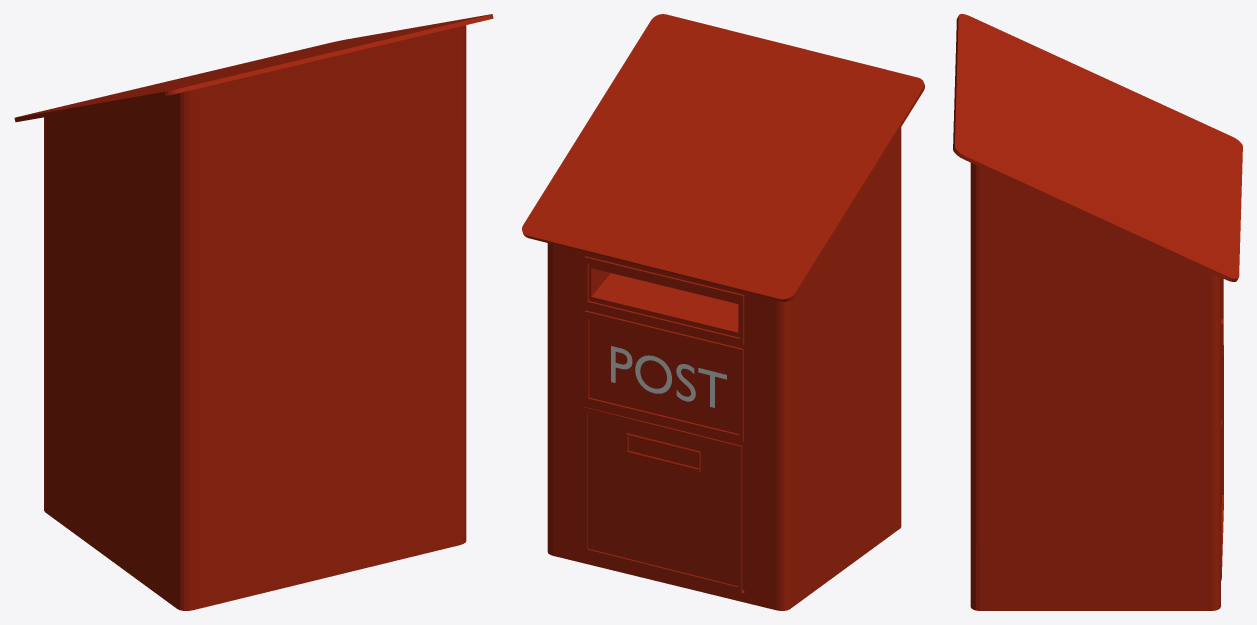
File: Post Box.fbx
The picture shows the model from 3 angles, left to right: view 1: azimuth 30°, elevation 25°; view 2: azimuth 150°, elevation 25°; view 3: azimuth 270°, elevation 25°; orthographic projection. The views are drawn at different scales.
Visible parts, largest first — view 1: Cube, Cube.002; view 2: Cube, Cube.002, Cube.003, Text; view 3: Cube, Cube.002, Cube.003.
Boxes of the visible parts, left/top/right/bottom form: Cube: left=44, top=25, right=466, bottom=610; Cube.002: left=14, top=14, right=493, bottom=122; Cube: left=547, top=127, right=901, bottom=610; Cube.002: left=522, top=14, right=924, bottom=301; Cube.003: left=584, top=407, right=744, bottom=593; Text: left=611, top=346, right=726, bottom=407; Cube: left=970, top=163, right=1223, bottom=610; Cube.002: left=953, top=14, right=1242, bottom=281; Cube.003: left=1221, top=345, right=1223, bottom=580.
Bounding box in the file's own units: 129 × 199 × 112.
